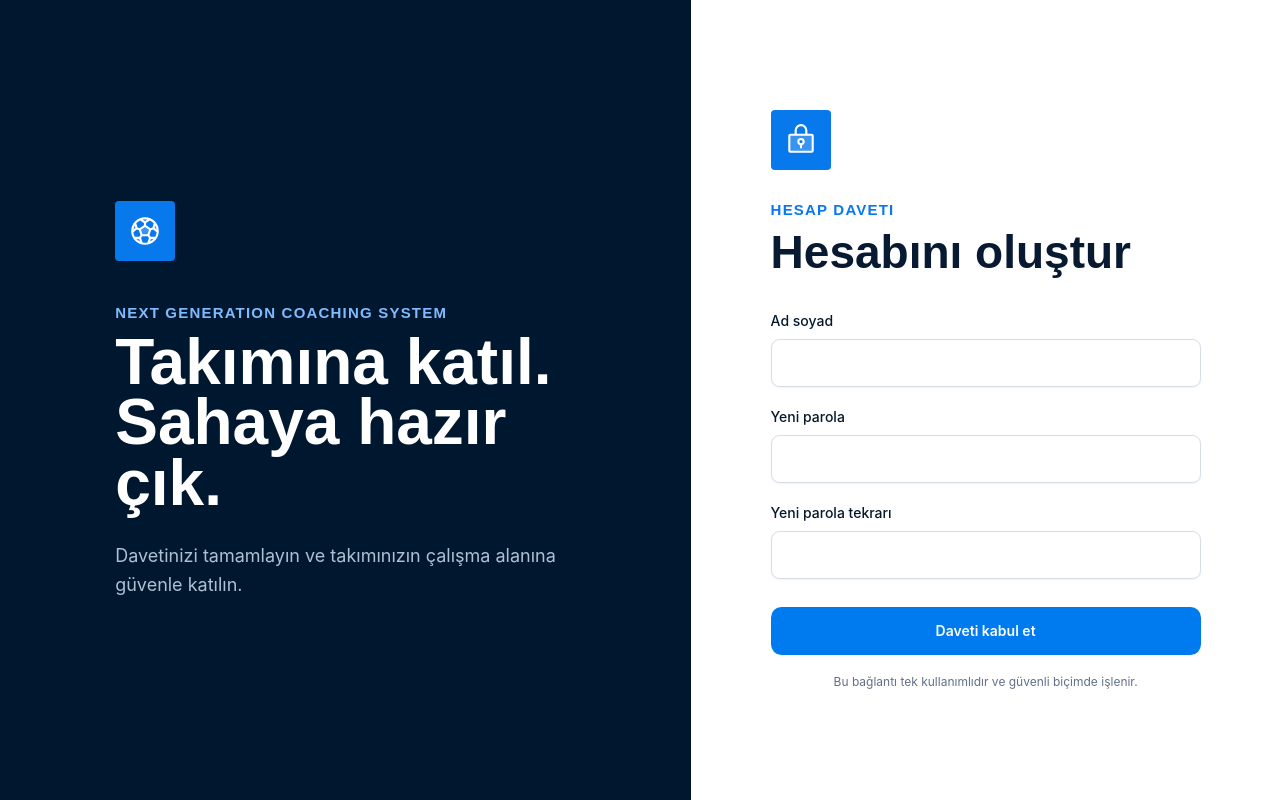
Scenario: public account completion routes › removes the invitation token fragment before submitting it
Expected: the heading "Hesabını oluştur" is shown, [771,226,1131,278]
Type "Ada Lovelace" into the field labelled "Ad soyad".
click(986, 362); type("Ada Lovelace")  # box [771,338,1201,386]
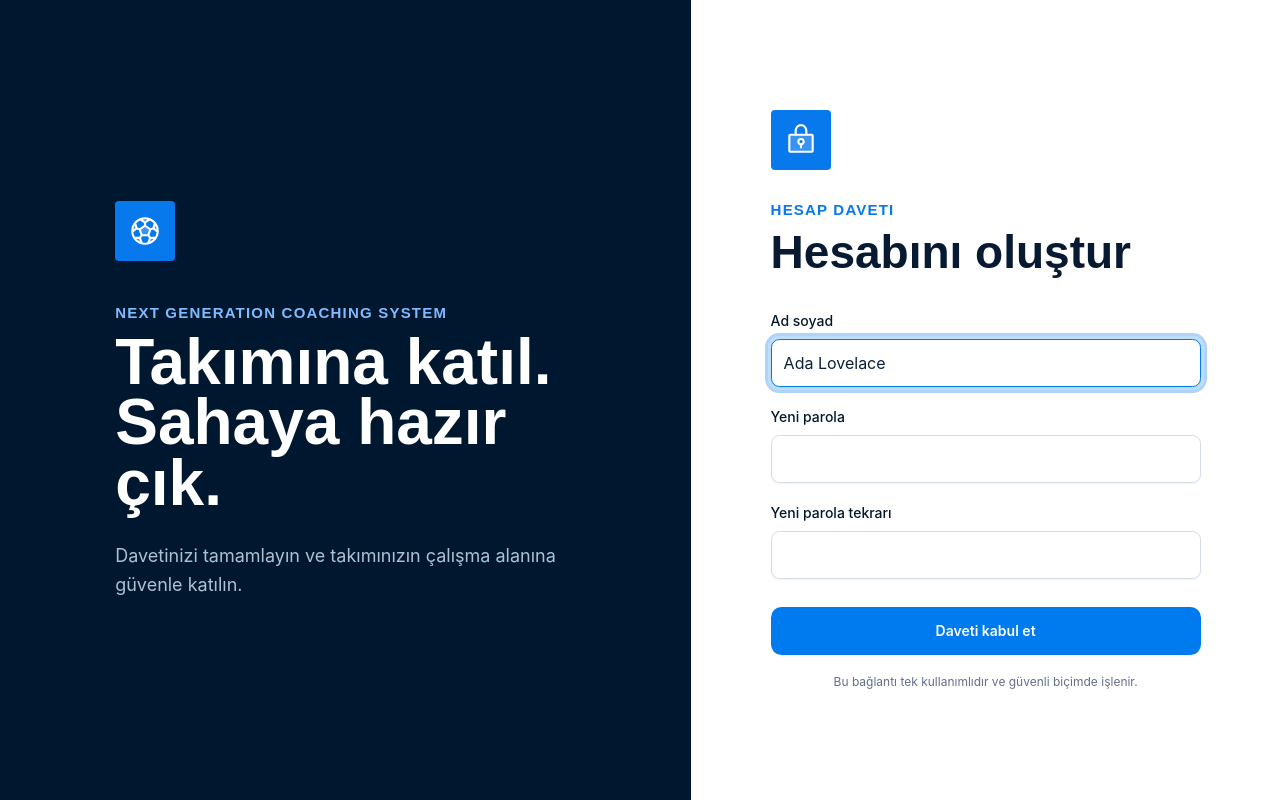
Type "secure-pass-123" into the password field labelled "Yeni parola".
click(986, 458); type("secure-pass-123")  # box [771,434,1201,482]
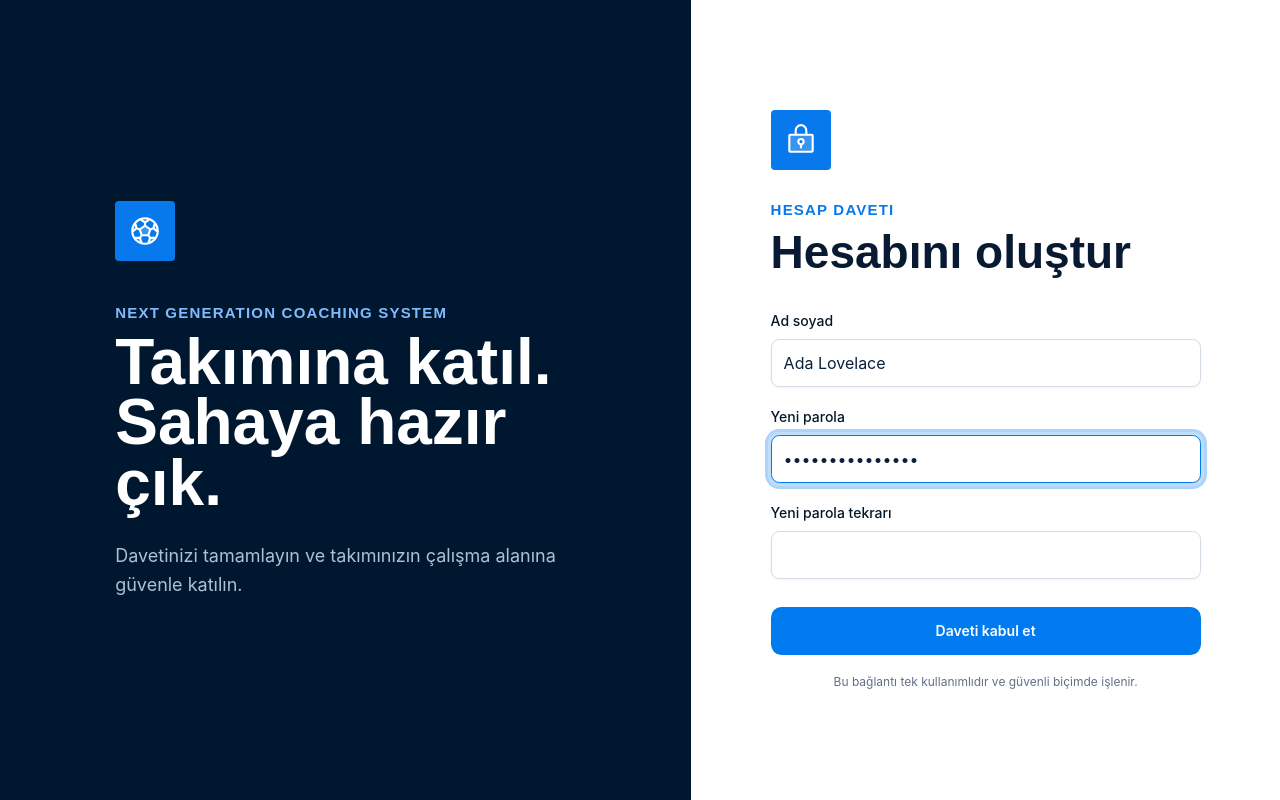
Type "secure-pass-123" into the password field labelled "Yeni parola tekrarı".
click(986, 554); type("secure-pass-123")  # box [771,530,1201,578]
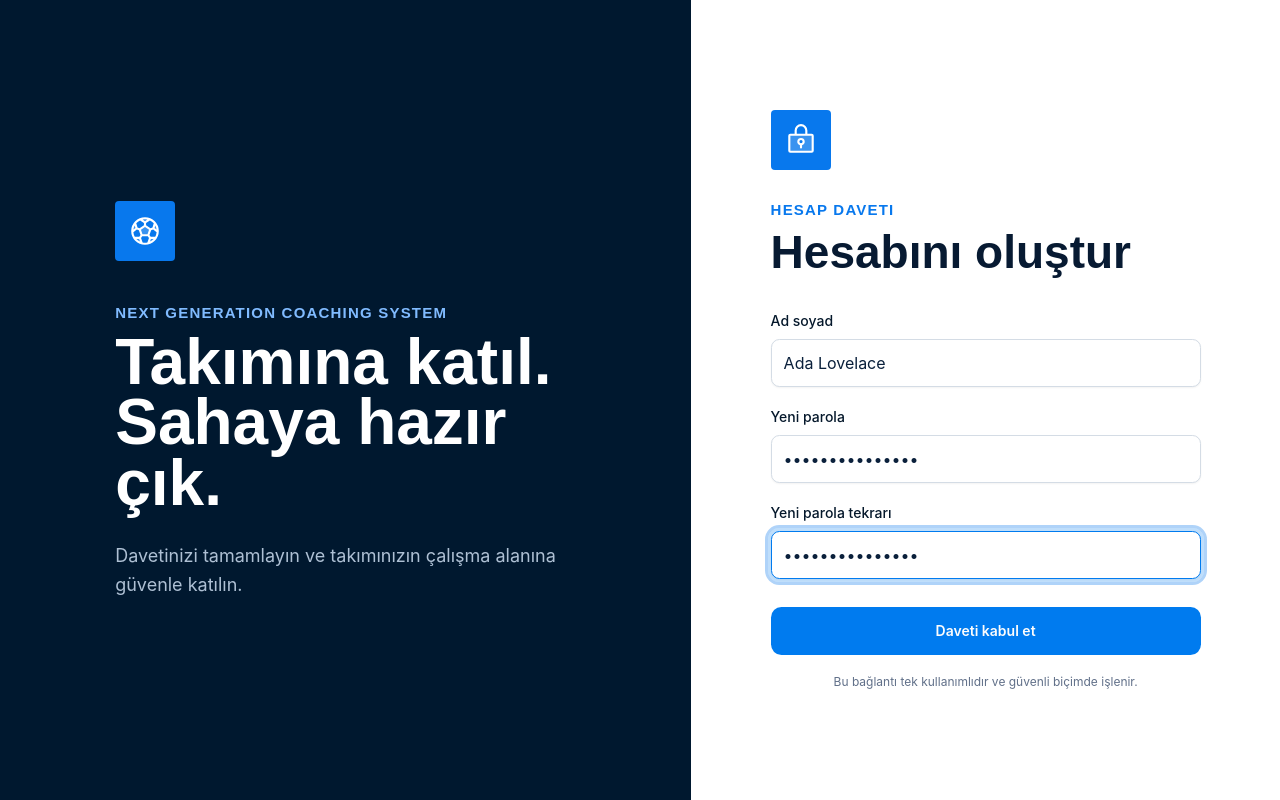
Click the button "Daveti kabul et".
click(986, 630)  # box [771,606,1201,654]
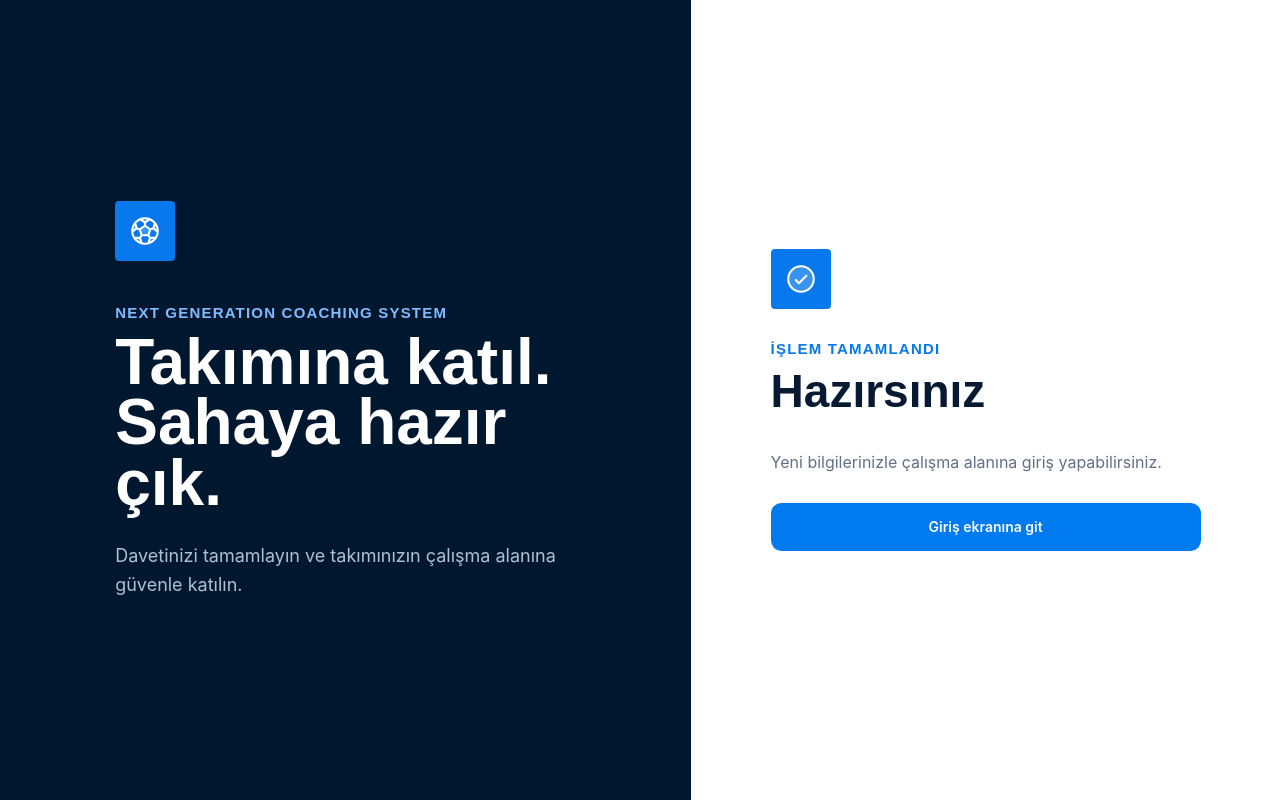
Now the heading "Hazırsınız" is shown, box [771,365,985,417]
